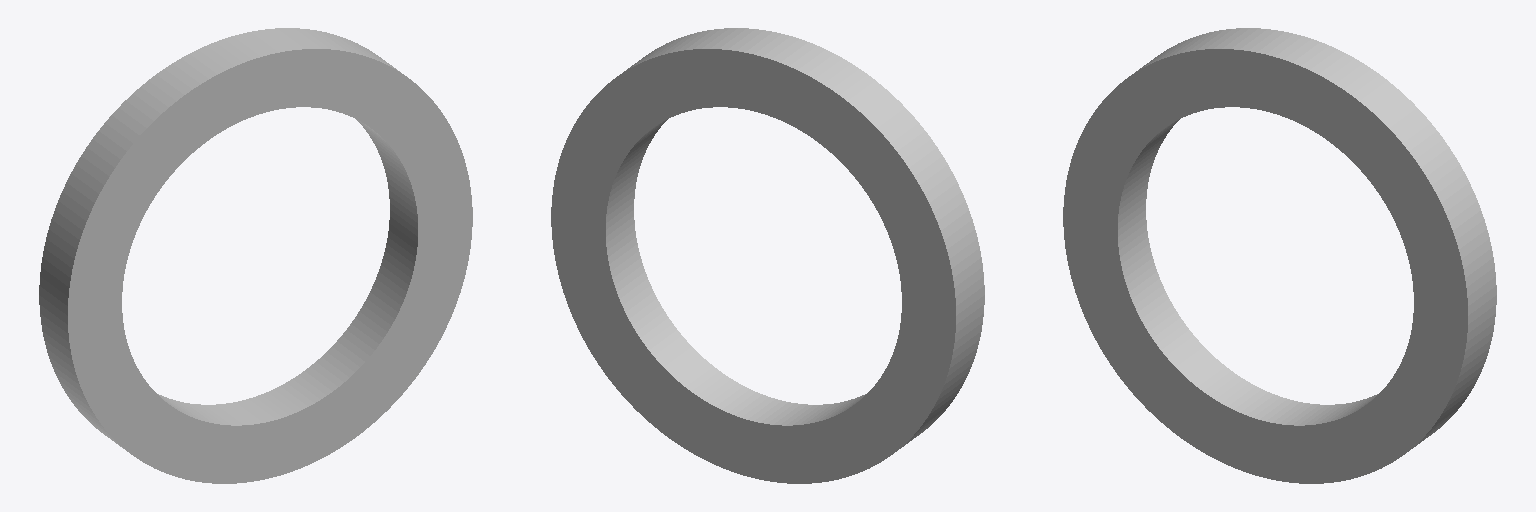
Rendered from Finger Unified Assembly - Part 1 (7).obj.
The picture shows the model from 3 angles: view 1: azimuth 30°, elevation 25°; view 2: azimuth 150°, elevation 25°; view 3: azimuth 330°, elevation 25°; orthographic projection.
Parts seen in each view (by area): view 1: mesh1, mesh2, mesh0; view 2: mesh3, mesh2, mesh0; view 3: mesh1, mesh2, mesh0.
Boxes of the visible parts, <box> form: mesh1: <box>68,49,472,483</box>; mesh2: <box>39,28,399,448</box>; mesh0: <box>158,119,417,425</box>; mesh3: <box>551,49,955,483</box>; mesh2: <box>624,28,984,448</box>; mesh0: <box>606,119,865,425</box>; mesh1: <box>1063,49,1467,483</box>; mesh2: <box>1136,28,1496,448</box>; mesh0: <box>1118,119,1377,425</box>.
Size of the model in its own units: 0.0082 by 0.0082 by 0.001.